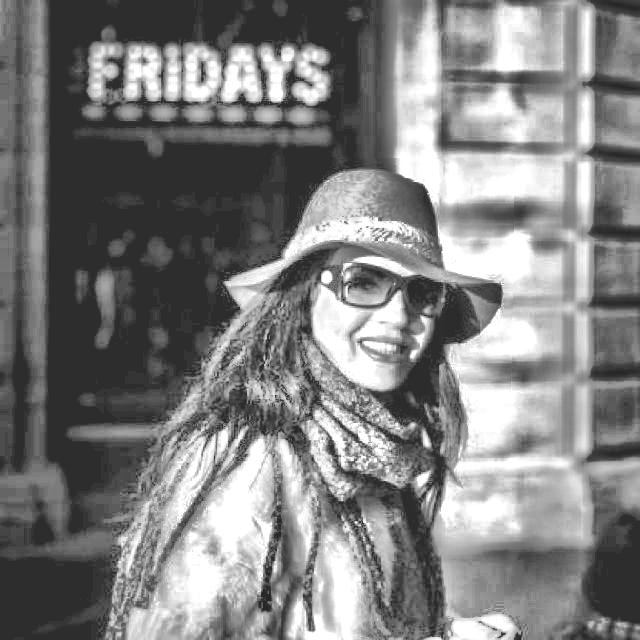happy: (230, 157, 514, 457)
